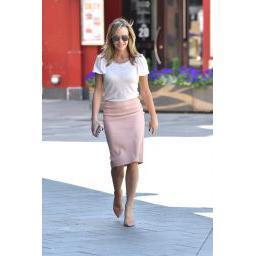Tshirt: (91, 52, 150, 102)
skirt: (102, 97, 146, 167)
